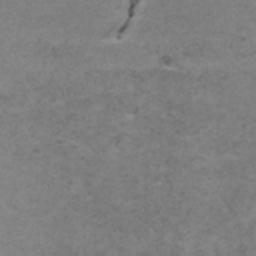Finishing roll printing: (115, 0, 138, 41)
